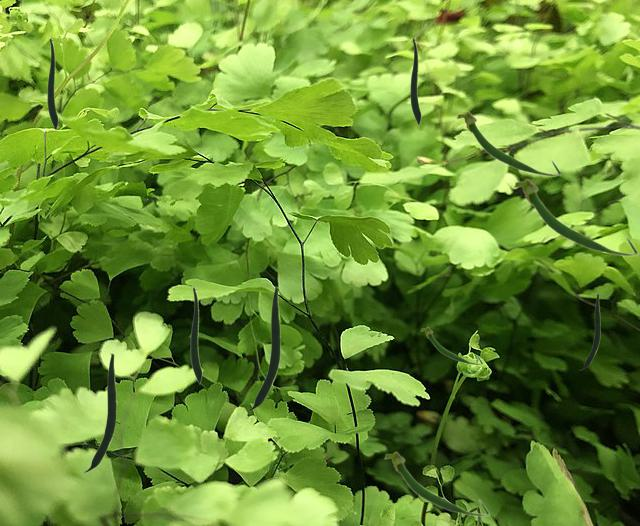french_bean: (512, 178, 638, 256), (383, 450, 489, 516), (455, 110, 561, 176), (246, 286, 279, 410), (83, 353, 115, 471), (420, 326, 482, 364), (580, 293, 599, 369), (190, 286, 201, 383), (47, 37, 57, 129), (410, 37, 420, 124)
